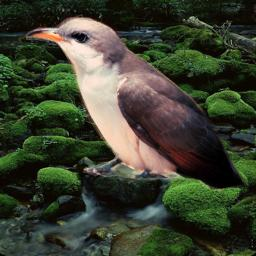Cuckoo: (26, 17, 250, 191)
